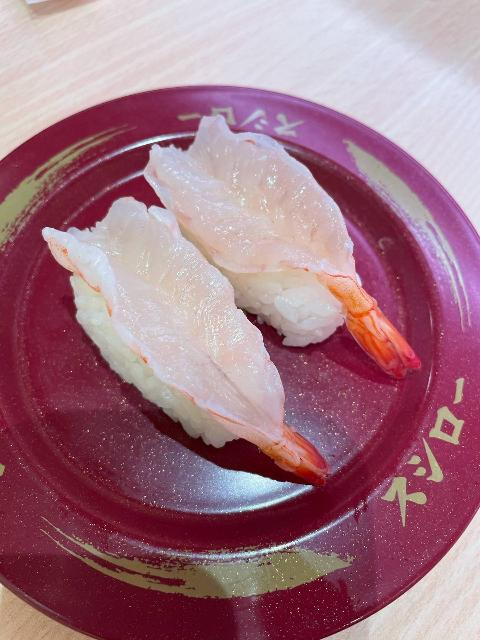janred: (10, 136, 441, 603)
